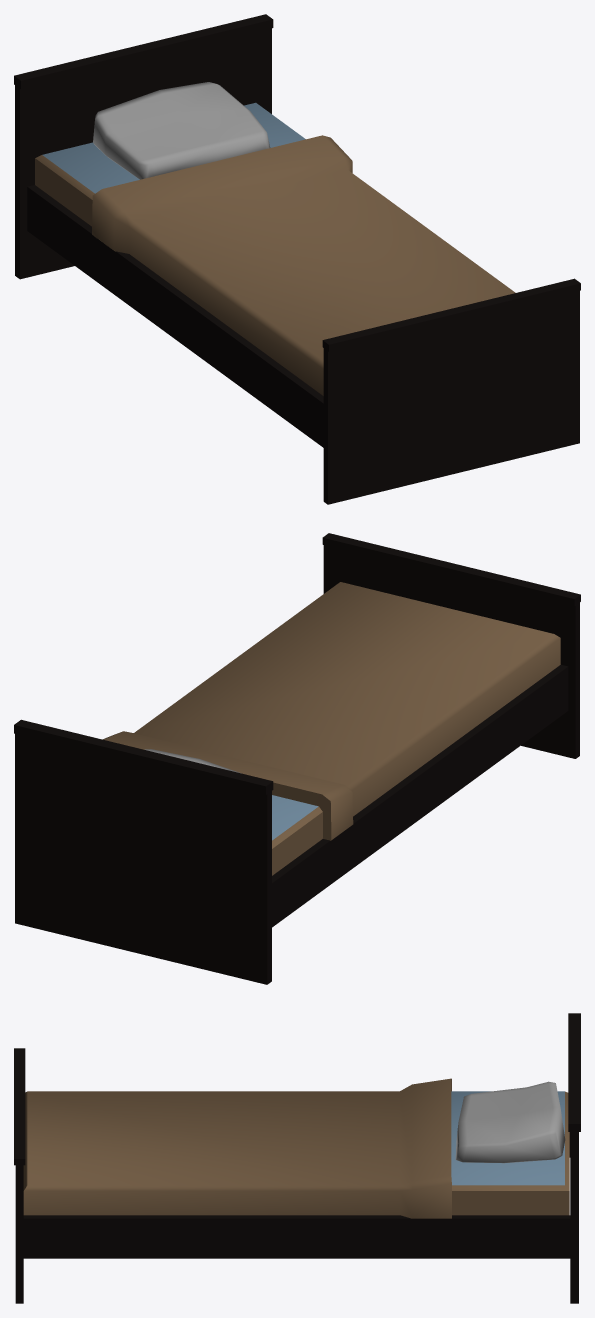
The model's file is Bed_type1.FBX.
The picture shows the model from 3 angles, top to bottom: view 1: azimuth 30°, elevation 25°; view 2: azimuth 150°, elevation 25°; view 3: azimuth 270°, elevation 25°; orthographic projection. The views are drawn at different scales.
Parts seen in each view (by area): view 1: Bed_type1_01; view 2: Bed_type1_01; view 3: Bed_type1_01.
Boxes of the visible parts, box(x1,y1,x2,y2) form: Bed_type1_01: box(14, 14, 580, 504); Bed_type1_01: box(14, 533, 580, 984); Bed_type1_01: box(14, 1013, 580, 1303).
Size of the model in its own units: 230 by 174 by 498.
